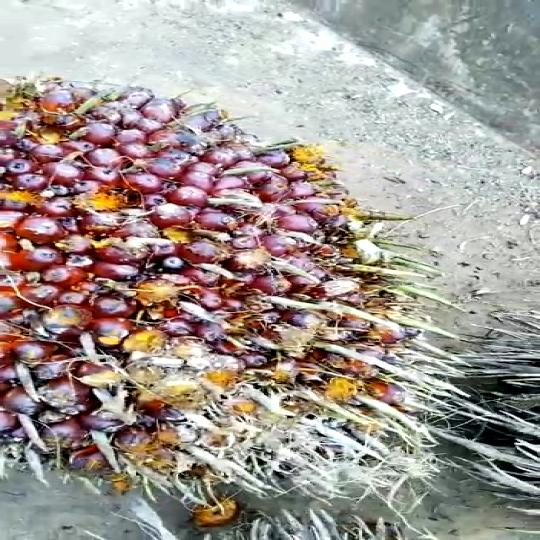masak: (0, 75, 417, 492)
